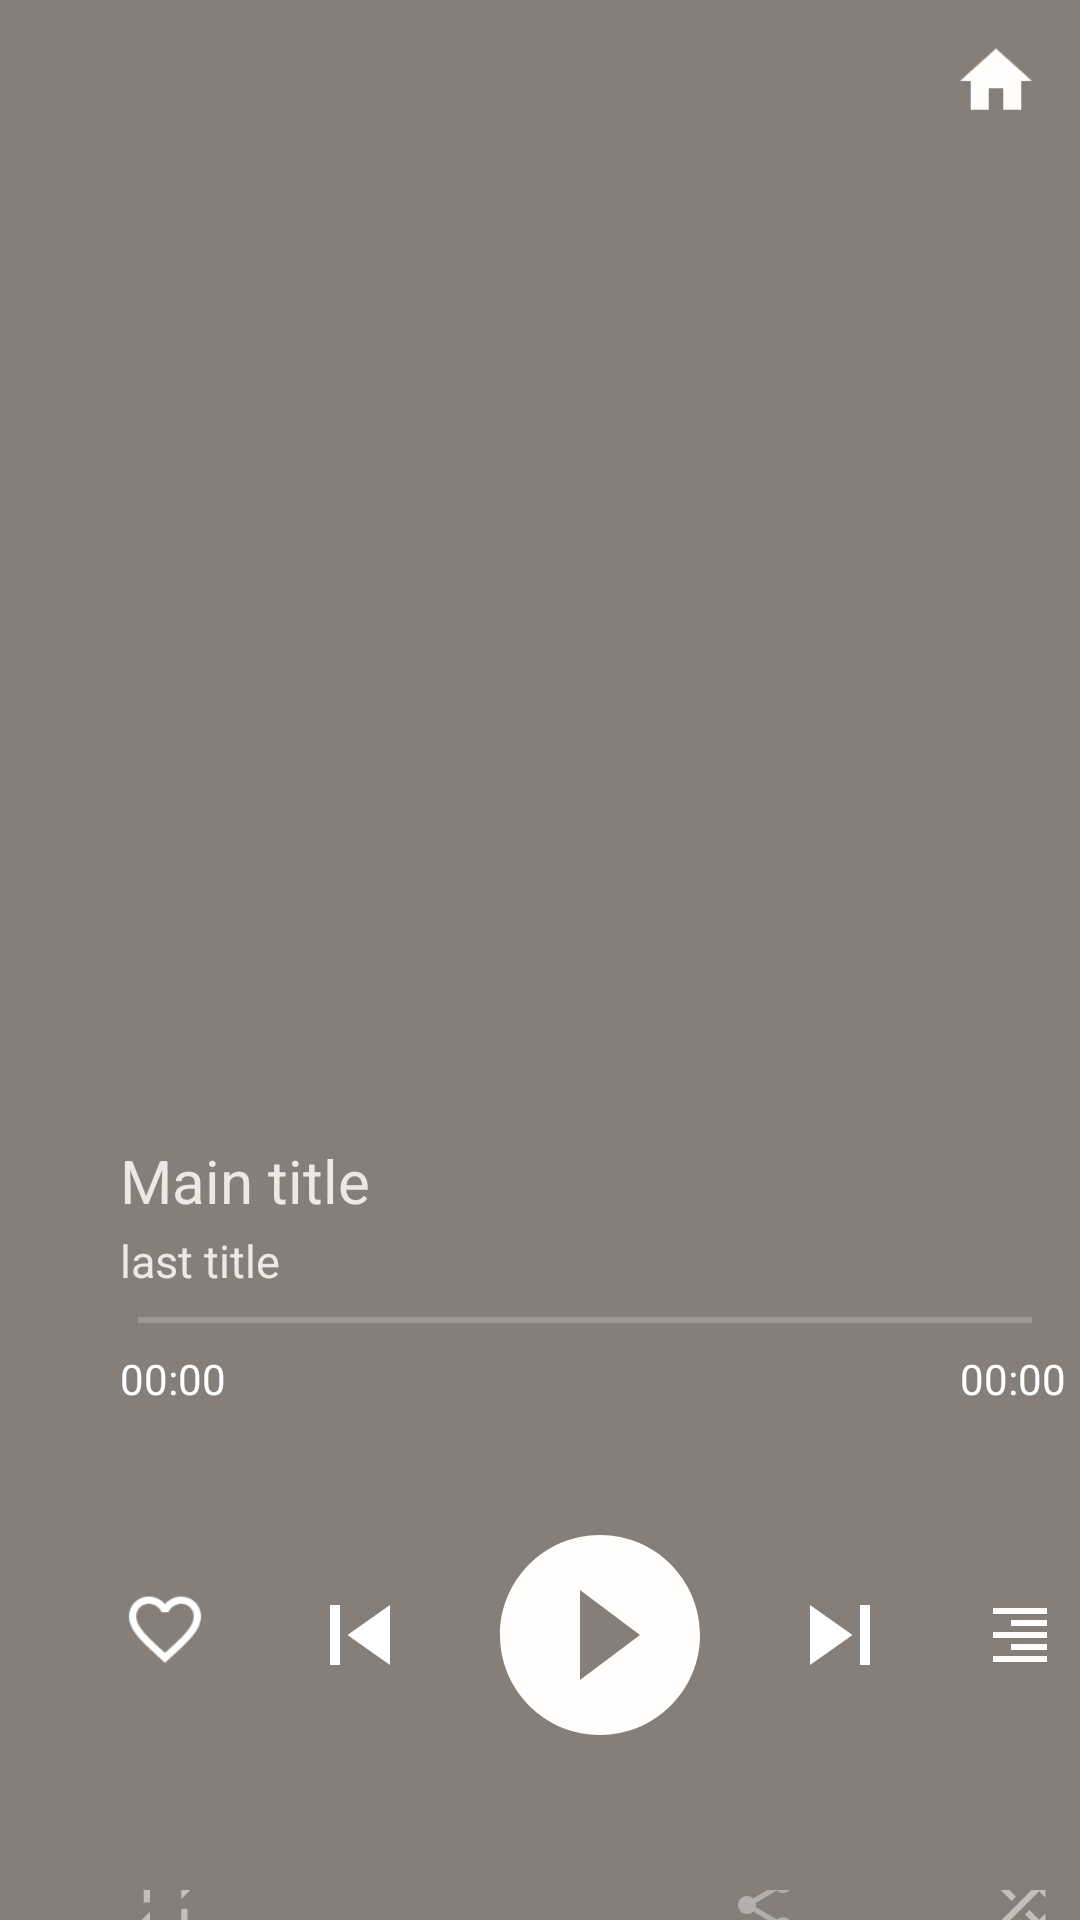

Screen size 1080*1920. Icon name, then its box in pixels as BBox(x1, y1, x2, y2):
mix: BBox(1001, 1890, 1046, 1920)
musiclist: BBox(993, 1608, 1047, 1662)
start: BBox(500, 1535, 700, 1735)
